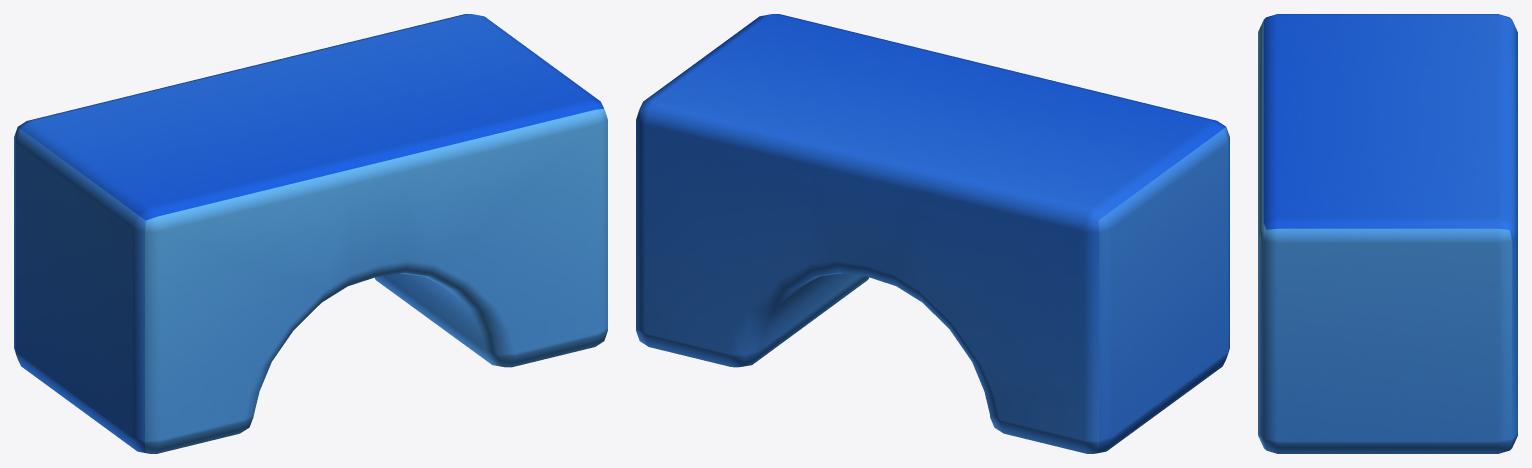
Rendered from BlockBridgeBlue.fbx.
3 renders of one model, left to right at view 1: azimuth 30°, elevation 25°; view 2: azimuth 150°, elevation 25°; view 3: azimuth 270°, elevation 25°, orthographic. The views are drawn at different scales.
Visible parts, largest first — view 1: Cube.016; view 2: Cube.016; view 3: Cube.016.
Part boxes in pixels (left/top/right/bottom): Cube.016: left=14, top=14, right=607, bottom=453; Cube.016: left=636, top=14, right=1229, bottom=453; Cube.016: left=1258, top=14, right=1517, bottom=453.
Size of the model in its own units: 400 by 200 by 200.
